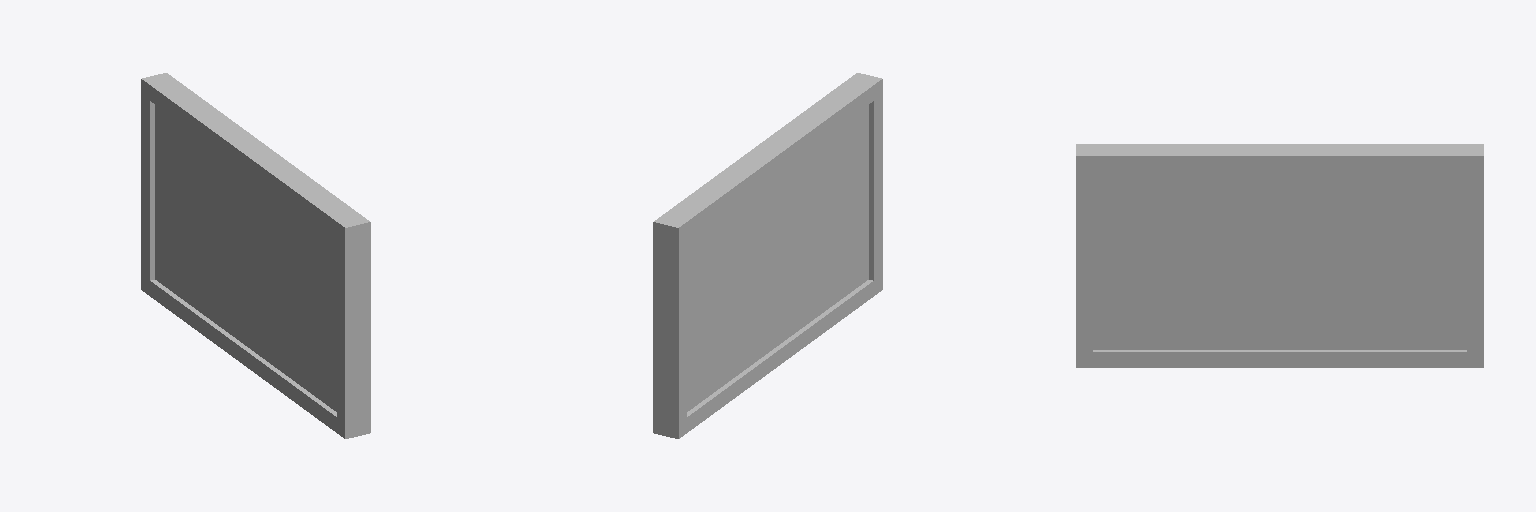
File: WallPictureFrame.obj
3 views of the same model, side by side, from view 1: azimuth 30°, elevation 25°; view 2: azimuth 150°, elevation 25°; view 3: azimuth 270°, elevation 25° (orthographic).
Parts seen in each view (by area): view 1: block_default_102, block_default_98, block_default_99, block_default_101, block_default_100; view 2: block_default_102, block_default_98, block_default_99, block_default_100, block_default_101; view 3: block_default_102, block_default_98, block_default_99, block_default_100, block_default_101.
Part boxes in pixels (x1,y1,x2,y2): block_default_102: (153,74,365,434); block_default_98: (141,73,370,243); block_default_99: (141,274,370,438); block_default_101: (337,225,370,423); block_default_100: (141,83,154,287); block_default_102: (658,74,869,434); block_default_98: (653,73,882,243); block_default_99: (653,274,882,438); block_default_100: (653,225,686,431); block_default_101: (869,82,882,285); block_default_102: (1084,147,1480,349); block_default_98: (1076,144,1483,171); block_default_99: (1076,350,1483,367); block_default_100: (1467,159,1483,351); block_default_101: (1076,159,1092,352).
Size of the model in its own units: 0.5 by 4 by 7.